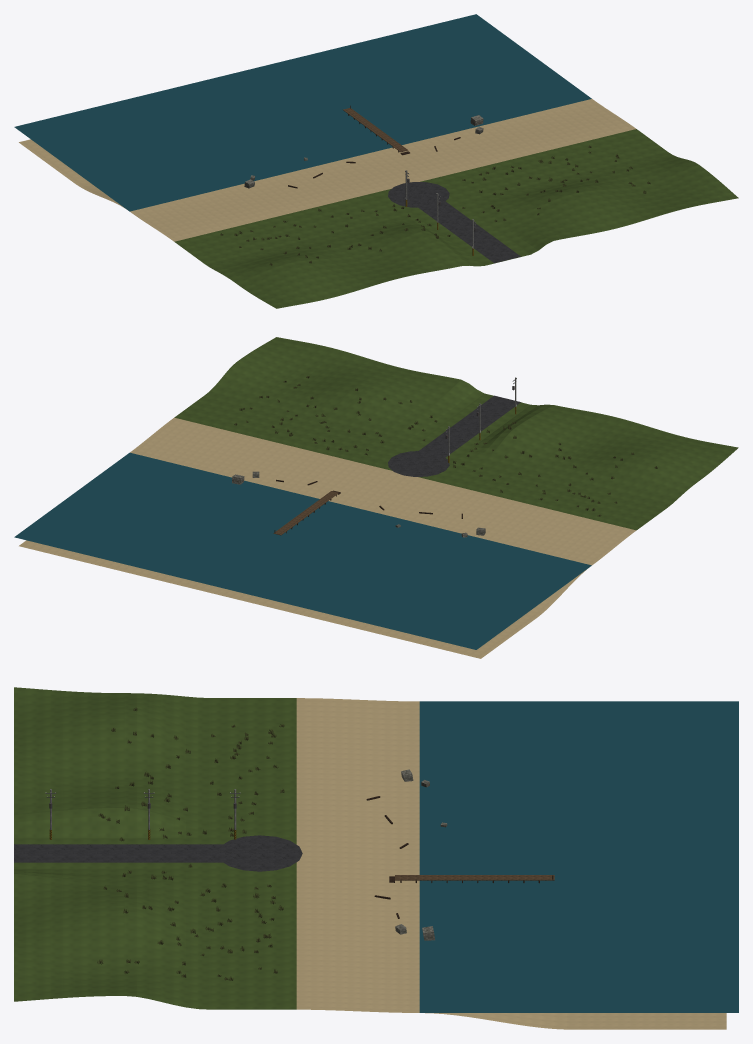
The model's file is shore.glb.
The picture shows the model from 3 angles, top to bottom: view 1: azimuth 30°, elevation 25°; view 2: azimuth 150°, elevation 25°; view 3: azimuth 270°, elevation 25°; orthographic projection. The views are drawn at different scales.
Visible parts, largest first — view 1: shore; view 2: shore; view 3: shore.
Boxes of the visible parts, x1=… form: shore: x1=14, y1=14, x2=738, y2=308; shore: x1=14, y1=337, x2=738, y2=658; shore: x1=14, y1=687, x2=738, y2=1029.
Size of the model in its own units: 120 by 12.6 by 118.
13 materials, 13 textured.
